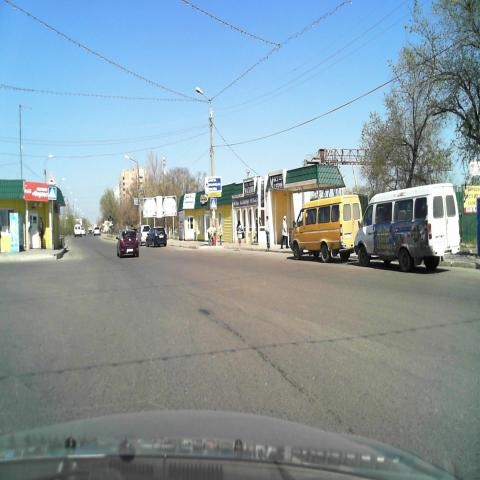5_19_1: (48, 186, 56, 201)
